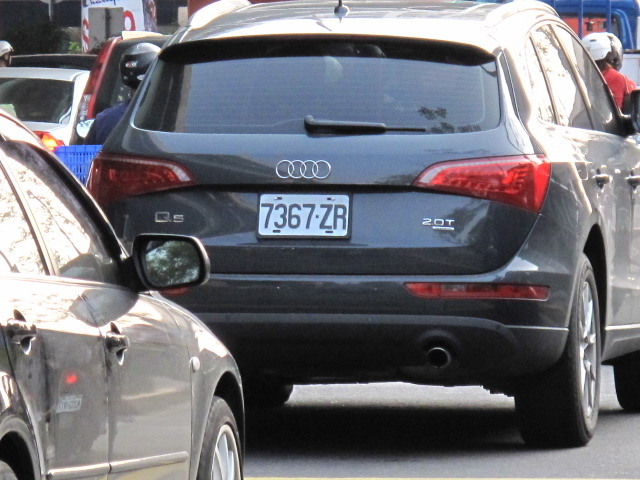plate: (254, 188, 354, 240)
